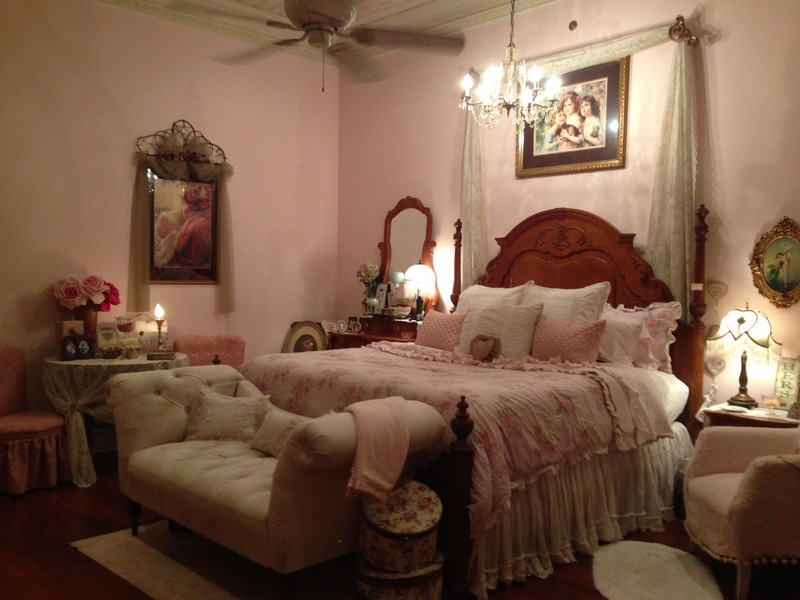bed: (249, 211, 710, 545)
chair: (686, 413, 797, 584)
lamp: (703, 299, 786, 422), (394, 265, 440, 332)
stool: (3, 408, 70, 487)
table: (41, 342, 193, 459)
